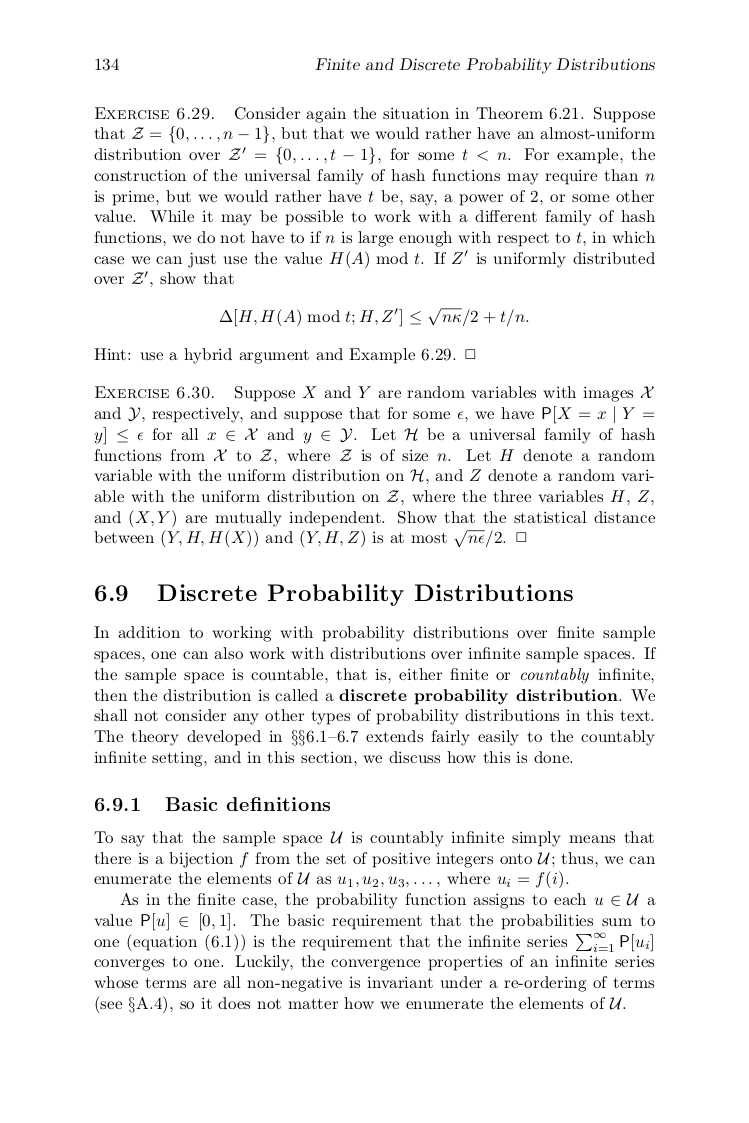formula: (220, 307, 528, 327)
